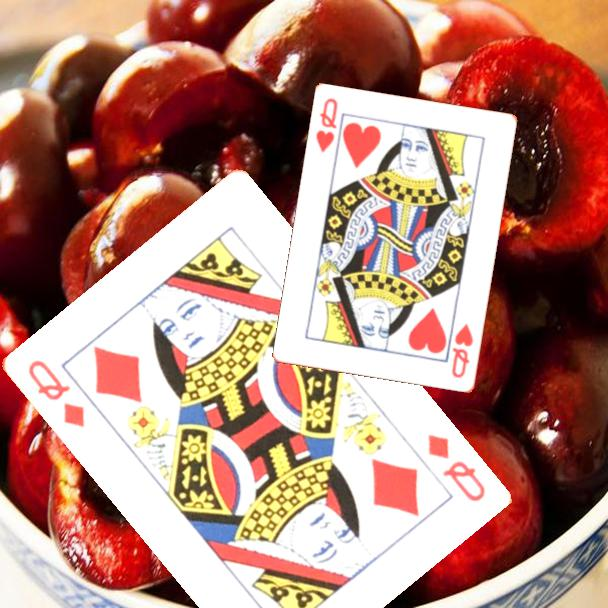d12: (423, 430, 488, 505), (24, 356, 87, 431)
h12: (448, 320, 476, 381), (313, 95, 341, 156)
